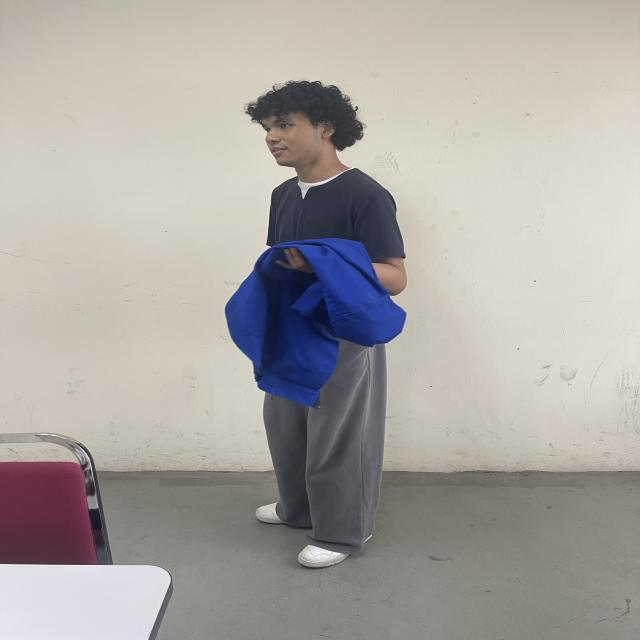person_without_labcoat: (225, 81, 406, 568)
